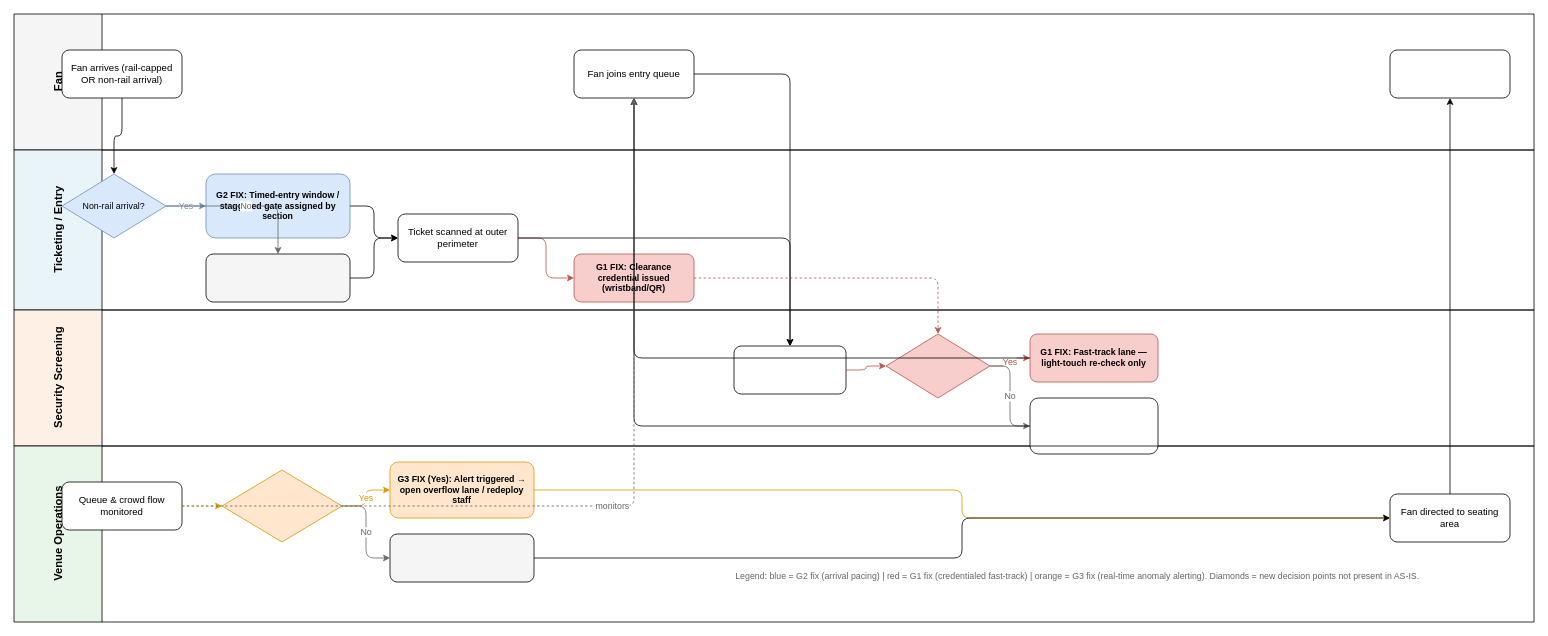
The diagram is 1548 pixels wide and 636 high, and some of its shapes have lost their labels. Each missing label, with the centre of its shape:
(No): Continue normal monitoring cadence: [461,557]
Bag check: [789,369]
Credential present?: [937,365]
Fan enters venue & proceeds to seat: [1449,73]
Full re-screen — metal detector + secondary if flagged: [1093,425]
Rail arrival — already paced by 40k cap: [277,277]
Wait time > 20 min vs. venue baseline?: [281,505]
